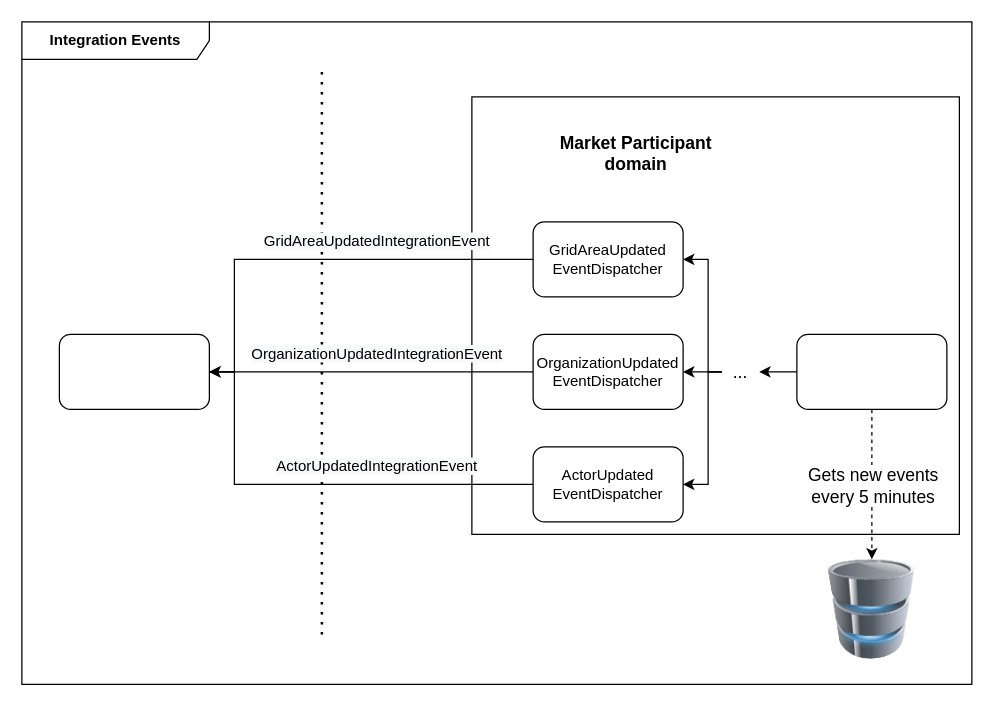
Image size: 994x706. Some labels were removed from this diagram. The centre of each missing label's shape, as x and y in pixels:
DispatchEvents TimerTrigger: point (871, 371)
Subscriber: point (133, 371)
